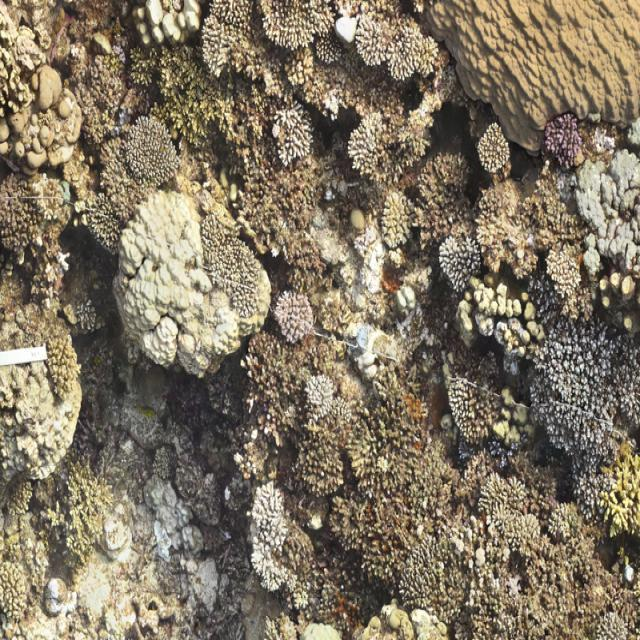Bleached Coral: (106, 198, 241, 383), (566, 144, 640, 298), (251, 475, 296, 609), (357, 226, 395, 318), (339, 326, 391, 393), (336, 16, 367, 54)
Healthy Coral: (317, 490, 640, 636), (201, 87, 431, 183), (0, 0, 75, 231)
